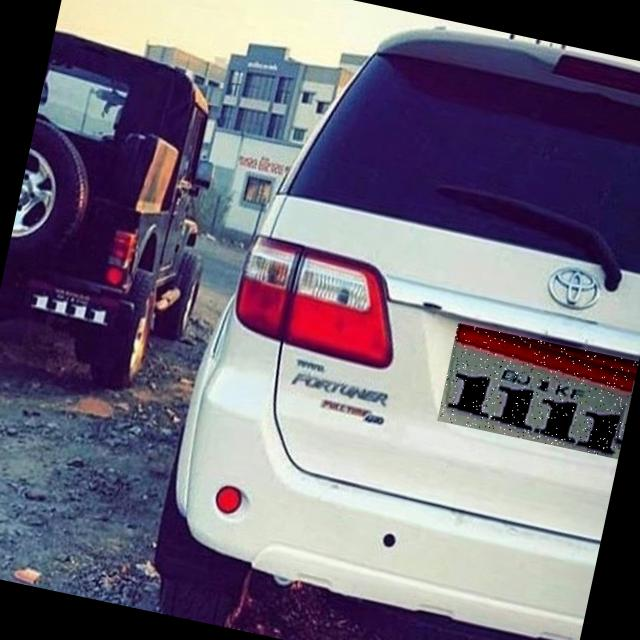Plate: (438, 324, 640, 460)
